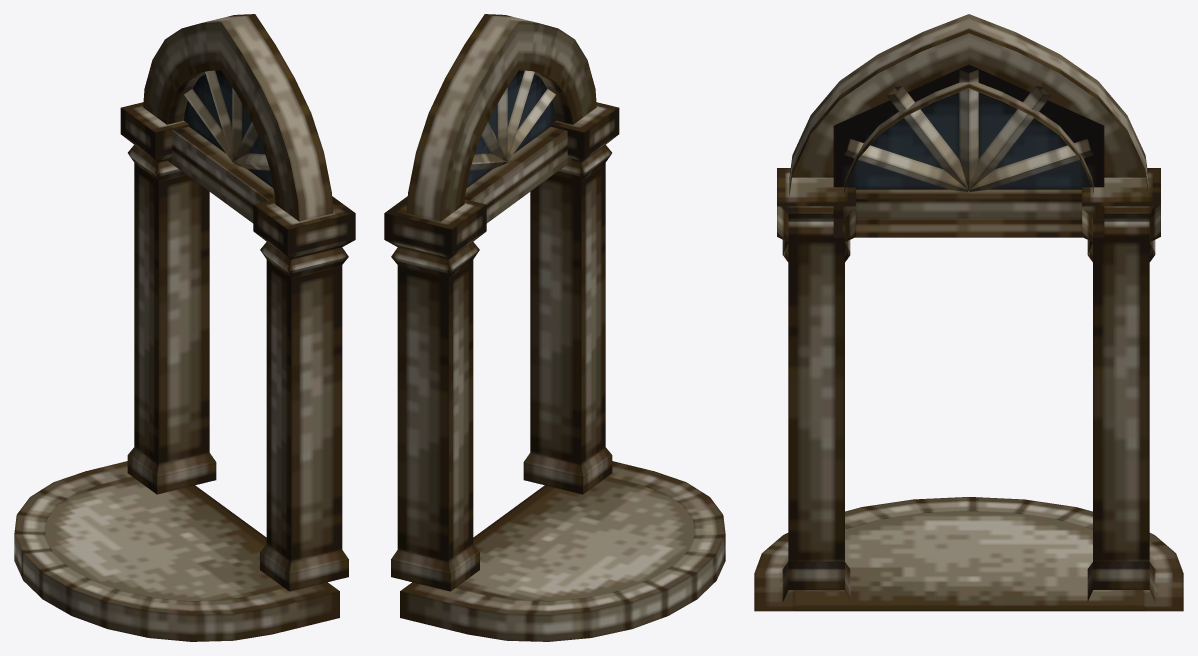
File: EnvBdgMD_Sea_A_Outdoor_Entrance_A.FBX
The picture shows the model from 3 angles, left to right: view 1: azimuth 30°, elevation 25°; view 2: azimuth 150°, elevation 25°; view 3: azimuth 270°, elevation 25°; orthographic projection. The views are drawn at different scales.
Visible parts, largest first — view 1: EnvBdgMD_Sea_A_Outdoor_Entrance_A; view 2: EnvBdgMD_Sea_A_Outdoor_Entrance_A; view 3: EnvBdgMD_Sea_A_Outdoor_Entrance_A.
Boxes of the visible parts, <box> form: EnvBdgMD_Sea_A_Outdoor_Entrance_A: <box>14,14,355,641</box>; EnvBdgMD_Sea_A_Outdoor_Entrance_A: <box>384,14,725,641</box>; EnvBdgMD_Sea_A_Outdoor_Entrance_A: <box>754,14,1183,611</box>.
Size of the model in its own units: 135 by 300 by 190.
1 material, 1 textured.
